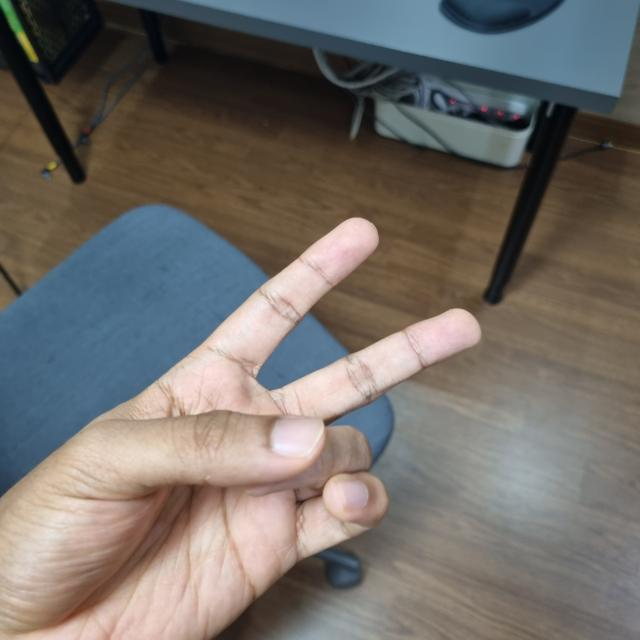Scissors: (3, 219, 477, 639)
